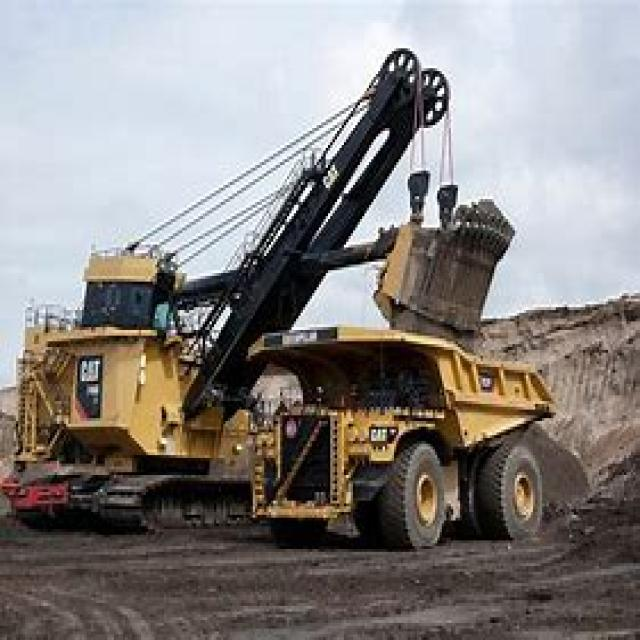dump_truck: (248, 322, 556, 554)
